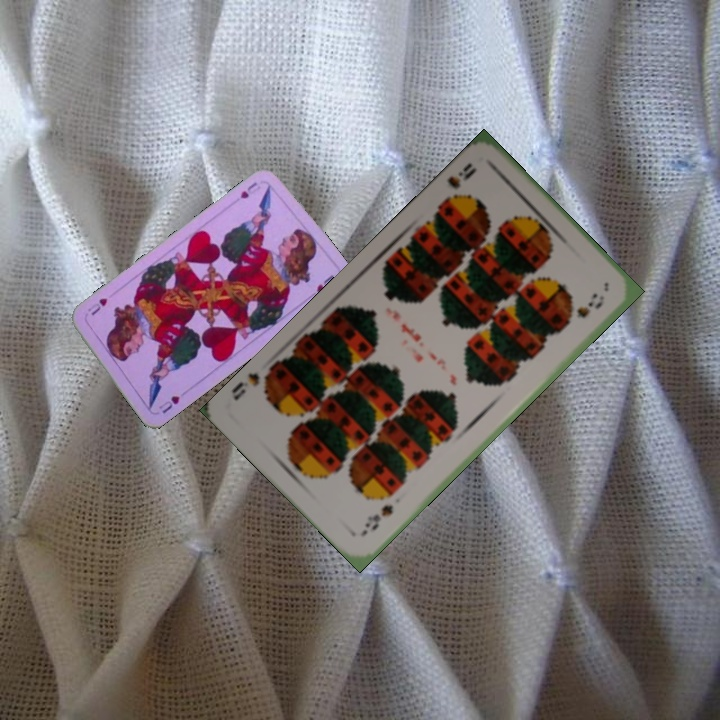HU: (155, 391, 182, 416), (236, 178, 263, 201)
S9: (437, 158, 480, 206), (360, 500, 396, 534)
